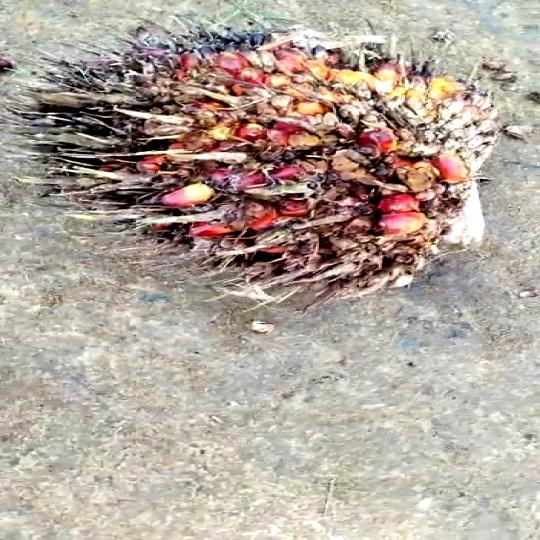terlalu masak: (37, 31, 506, 307)
